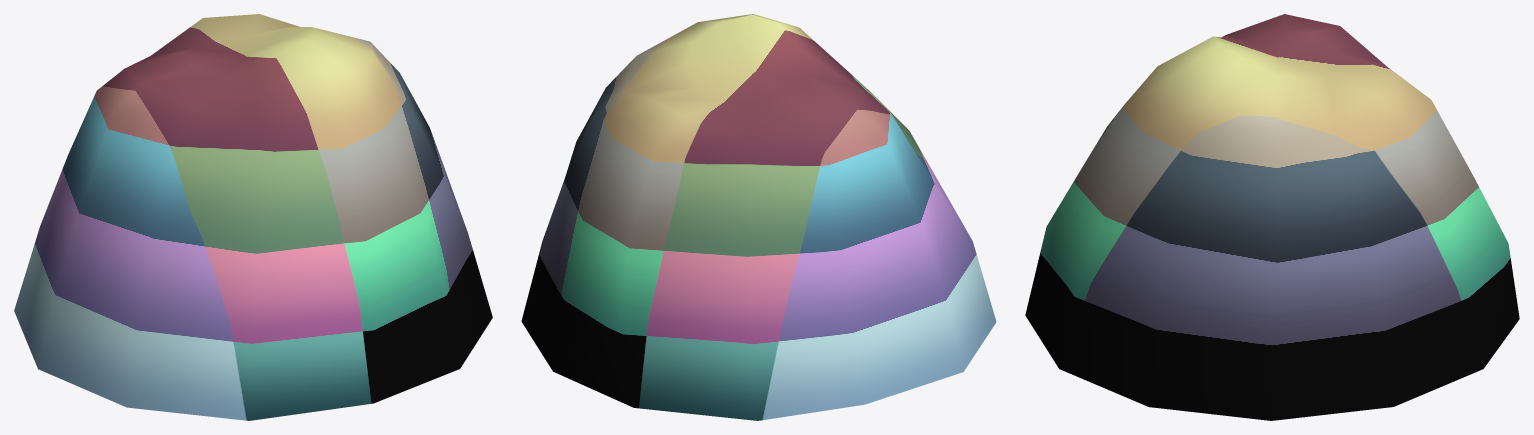
The model's file is FX_Hill.fbx.
3 renders of one model, left to right at view 1: azimuth 30°, elevation 25°; view 2: azimuth 150°, elevation 25°; view 3: azimuth 270°, elevation 25°, orthographic. The views are drawn at different scales.
Parts seen in each view (by area): view 1: hillFX; view 2: hillFX; view 3: hillFX.
Boxes of the visible parts, x1,y1,x2,y2 form: hillFX: (14, 14, 492, 420); hillFX: (521, 14, 996, 420); hillFX: (1025, 14, 1519, 420).
Bounding box in the file's own units: 4.2 × 2.75 × 4.25.
1 material, 1 textured.
